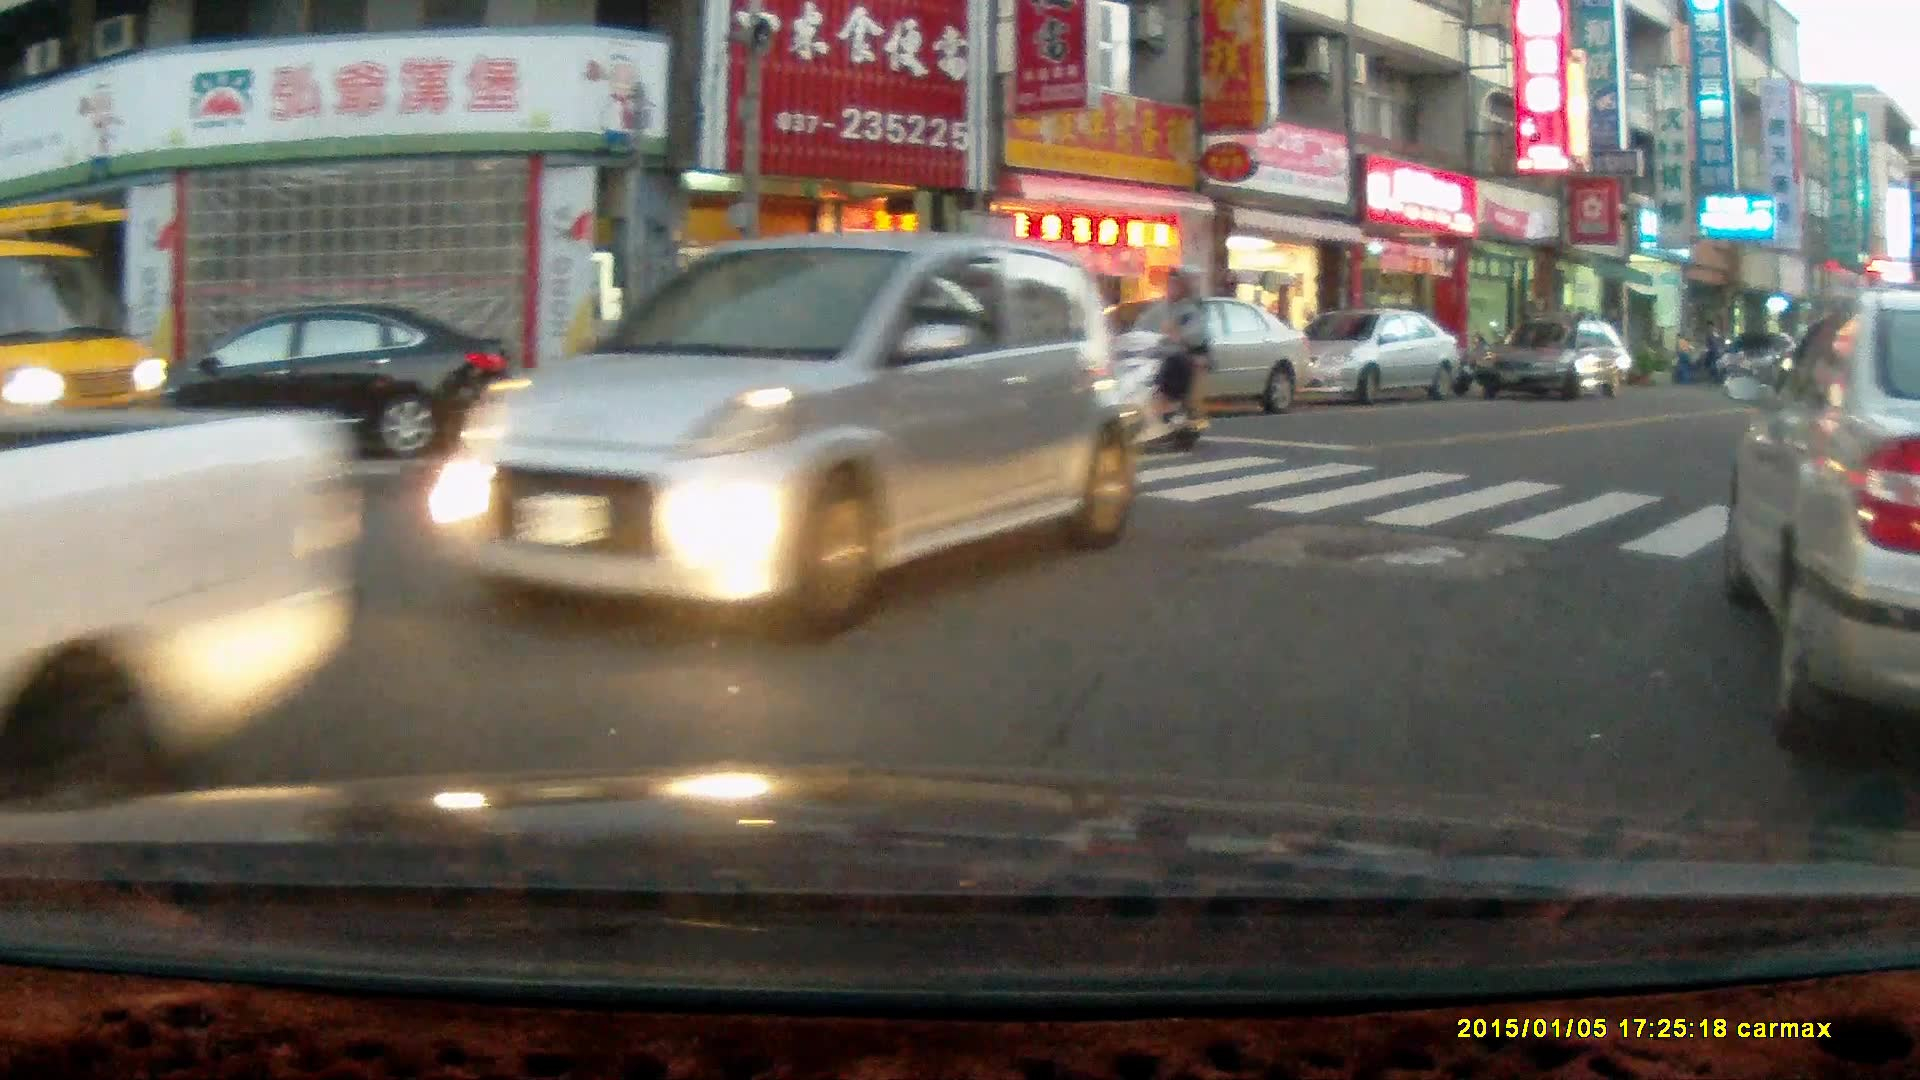rider: (1077, 261, 1214, 453)
vehicle: (427, 234, 1133, 637), (1, 409, 363, 795), (1720, 289, 1920, 768), (166, 295, 512, 454), (1127, 293, 1314, 416), (1284, 305, 1463, 400), (1474, 317, 1640, 402)
